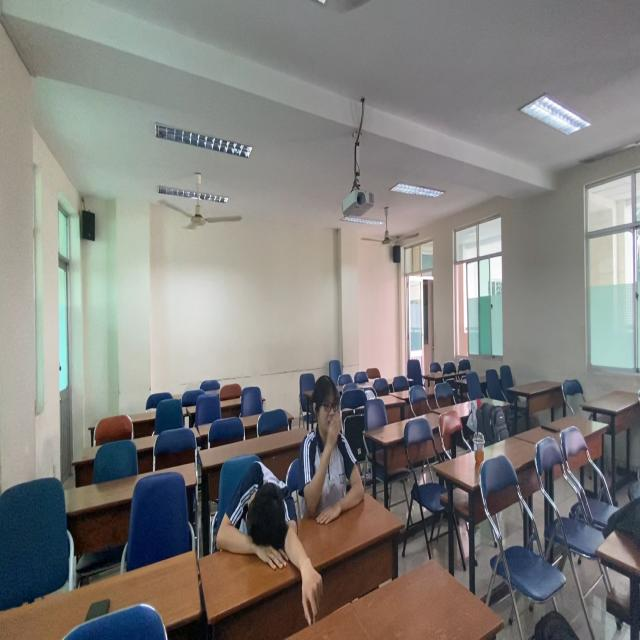raise_hand: (302, 369, 369, 526)
sleep: (212, 450, 304, 580)
